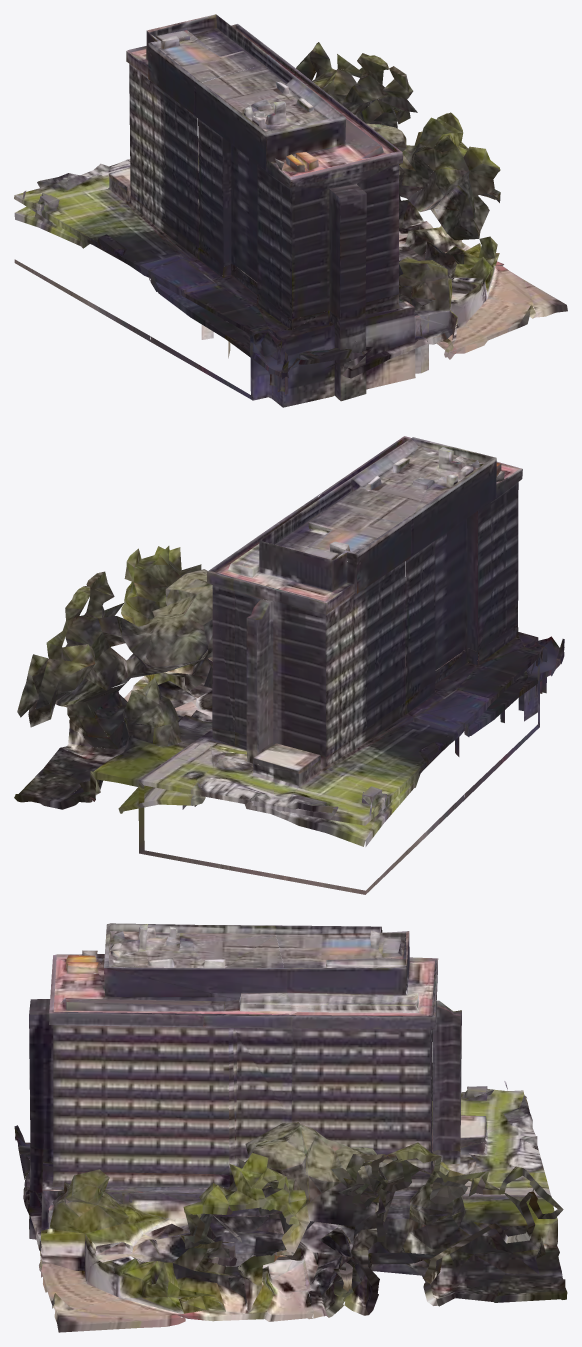
3 views of the same model, one above another, from view 1: azimuth 30°, elevation 25°; view 2: azimuth 150°, elevation 25°; view 3: azimuth 270°, elevation 25° (orthographic). The views are drawn at different scales.
Parts seen in each view (by area): view 1: Mesh_0; view 2: Mesh_0; view 3: Mesh_0.
Boxes of the visible parts, x1,y1,x2,y2 form: Mesh_0: [14, 14, 567, 407]; Mesh_0: [14, 436, 564, 894]; Mesh_0: [14, 923, 567, 1332].
Bounding box in the file's own units: 66.6 × 48.49 × 82.71.
Materials: 2 (2 with a texture image).
